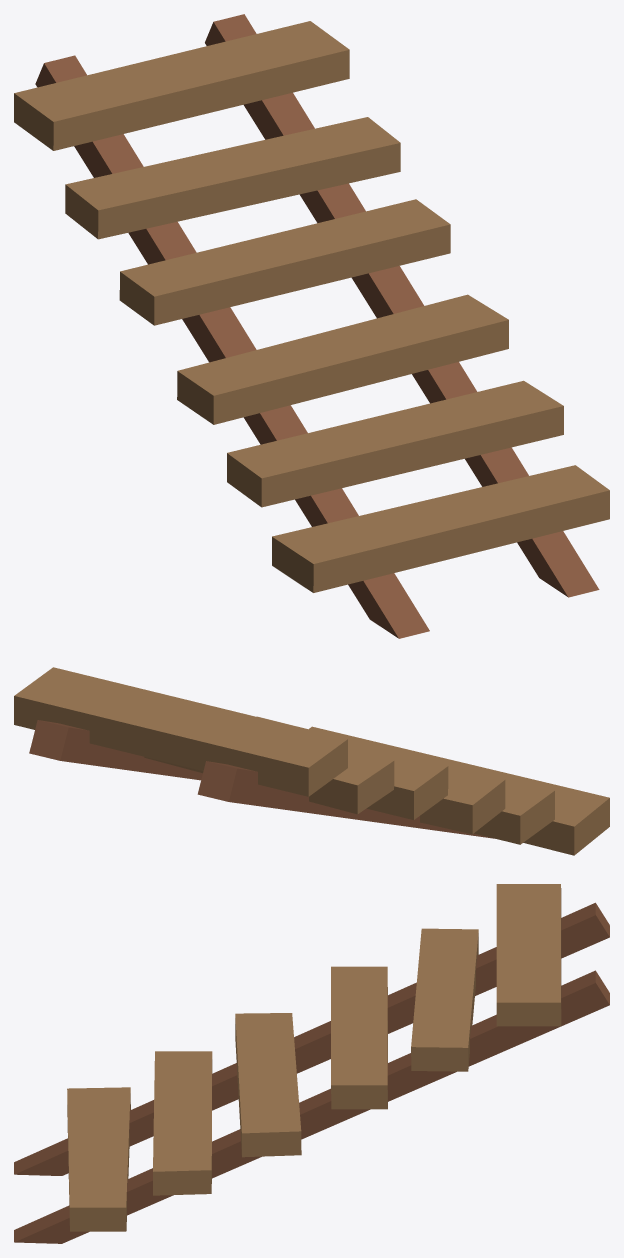
File: Dock_Stairs.fbx
The picture shows the model from 3 angles, top to bottom: view 1: azimuth 30°, elevation 25°; view 2: azimuth 150°, elevation 25°; view 3: azimuth 270°, elevation 25°; orthographic projection. The views are drawn at different scales.
Parts seen in each view (by area): view 1: Dock_Stairs; view 2: Dock_Stairs; view 3: Dock_Stairs.
Boxes of the visible parts, bbox=[...] form: Dock_Stairs: bbox=[14, 14, 609, 638]; Dock_Stairs: bbox=[14, 667, 609, 855]; Dock_Stairs: bbox=[14, 884, 609, 1243].
Bounding box in the file's own units: 166 × 166 × 343.
